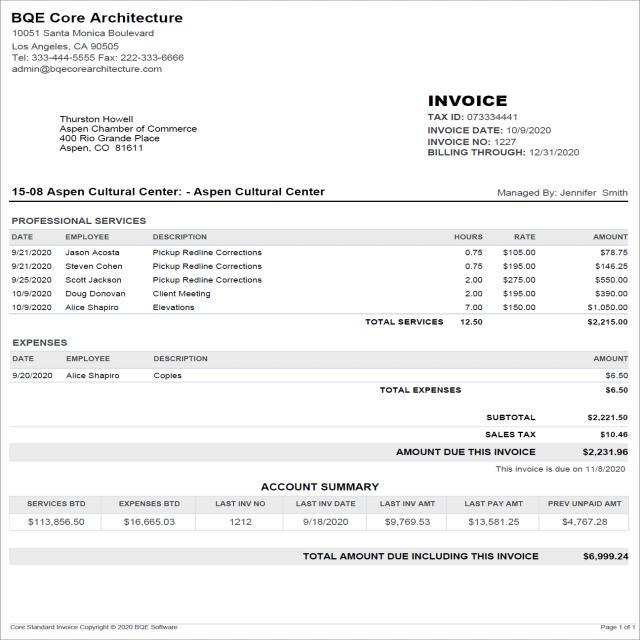due_date: (529, 145, 581, 159)
invoice_date: (504, 122, 555, 136)
invoice_number: (493, 136, 519, 147)
invoice_subtotal: (582, 411, 630, 422)
invoice_total: (576, 443, 636, 459)
item_description: (150, 245, 268, 315)
item_quantity: (457, 247, 485, 313)
item_total_price: (581, 245, 634, 314)
item_unit_price: (498, 247, 541, 312)
supplier_address: (11, 27, 157, 51)
supplier_name: (11, 10, 187, 26)
tax_amount: (598, 428, 630, 441)
